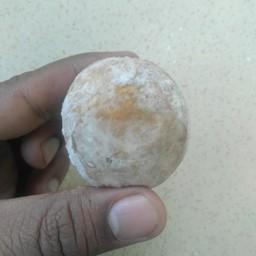Bad_lime: (61, 52, 186, 186)
